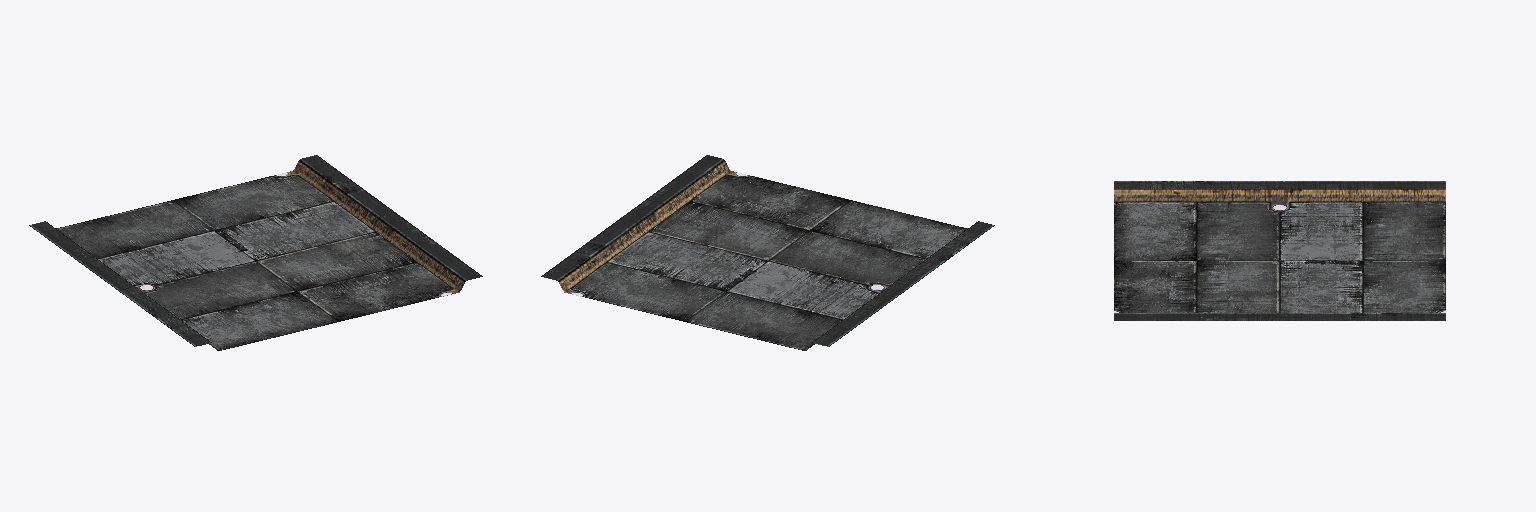
The picture shows the model from 3 angles: view 1: azimuth 30°, elevation 25°; view 2: azimuth 150°, elevation 25°; view 3: azimuth 270°, elevation 25°; orthographic projection.
Parts seen in each view (by area): view 1: pPlane1; view 2: pPlane1; view 3: pPlane1.
Boxes of the visible parts, x1,y1,x2,y2 form: pPlane1: [29, 155, 482, 350]; pPlane1: [541, 155, 994, 350]; pPlane1: [1114, 181, 1445, 320].
Size of the model in its own units: 23.94 by 0.7968 by 23.94.
Materials: 1 (1 with a texture image).